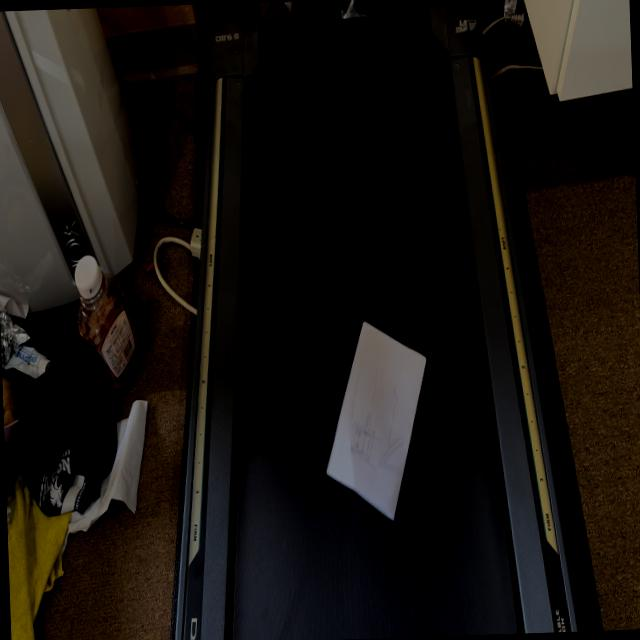Recycle: (316, 316, 431, 524)
